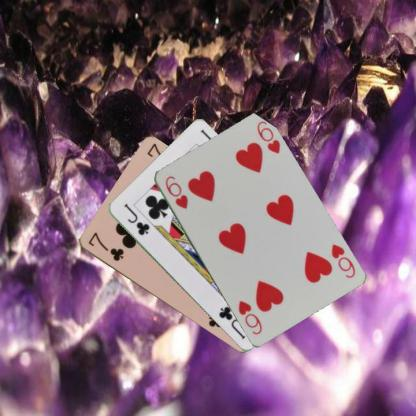6h: (328, 241, 357, 280), (162, 173, 189, 210)
7c: (85, 229, 125, 263)
Jc: (121, 200, 151, 237)
